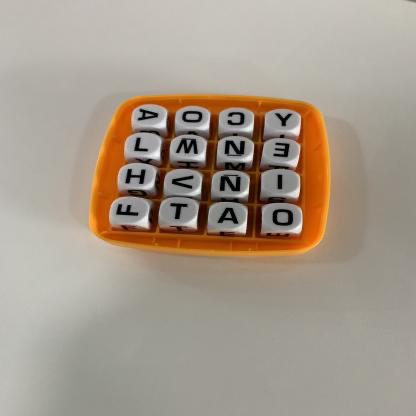a: (209, 202, 248, 232), (133, 104, 168, 126)
c: (220, 109, 256, 132)
e: (265, 139, 301, 163)
f: (111, 197, 150, 225)
h: (120, 164, 157, 189)
i: (263, 171, 302, 196)
l: (126, 133, 163, 157)
n: (213, 171, 251, 197), (218, 137, 255, 162)
o: (264, 204, 303, 232), (177, 107, 212, 130)
t: (161, 198, 200, 226)
v: (165, 170, 203, 195)
w: (172, 135, 208, 159)
y: (267, 110, 302, 132)
